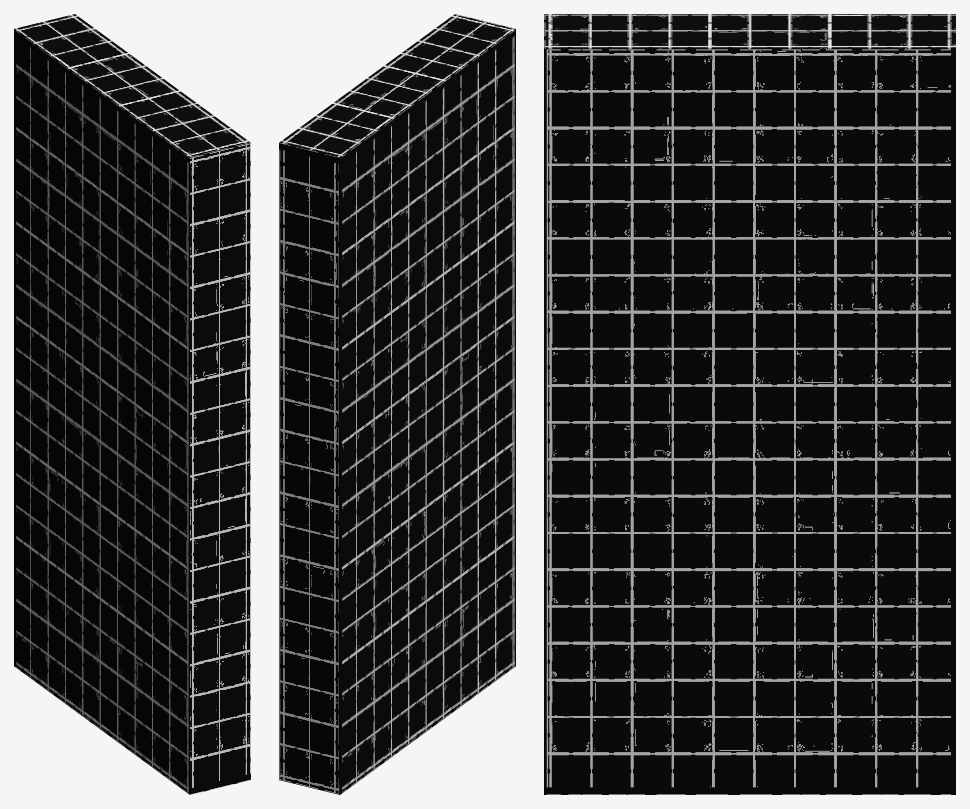
File: Tetris.fbx
3 views of the same model, side by side, from view 1: azimuth 30°, elevation 25°; view 2: azimuth 150°, elevation 25°; view 3: azimuth 270°, elevation 25° (orthographic). The views are drawn at different scales.
Parts seen in each view (by area): view 1: 2.Squares; view 2: 2.Squares; view 3: 2.Squares.
Part boxes in pixels (x1,y1,x2,y2): 2.Squares: (14, 14, 250, 794); 2.Squares: (279, 14, 515, 794); 2.Squares: (544, 14, 955, 794).
Bounding box in the file's own units: 2 × 20 × 10.
